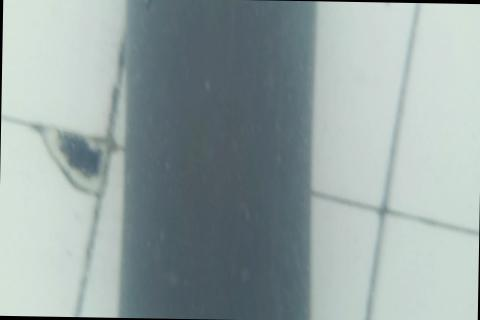keretakan: (142, 0, 156, 18)
